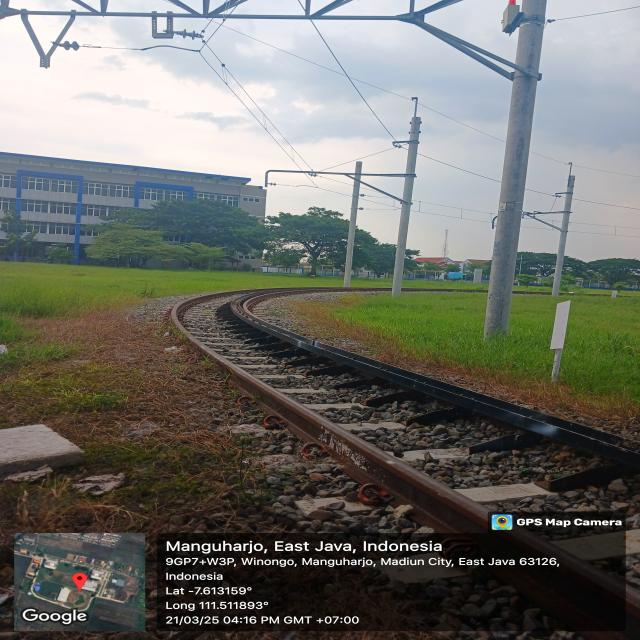rail-detection: (169, 309, 640, 597), (230, 291, 640, 469)
